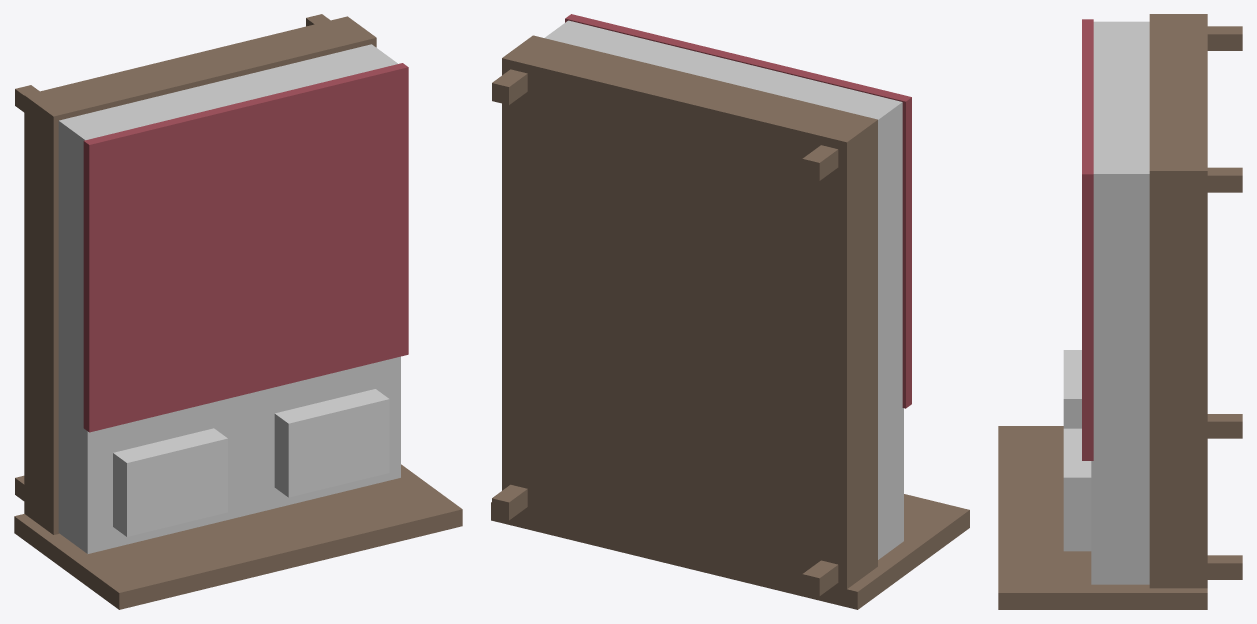
File: bed.glb
3 views of the same model, side by side, from view 1: azimuth 30°, elevation 25°; view 2: azimuth 150°, elevation 25°; view 3: azimuth 270°, elevation 25° (orthographic). The views are drawn at different scales.
Visible parts, largest first — view 1: Blanket, Mattress, BedFrame, Headboard, Pillow_2, Pillow_1; view 2: BedFrame, Mattress, Headboard, Blanket, Leg_3, Leg_1, Leg_2, Leg_4; view 3: BedFrame, Mattress, Headboard, Blanket, Pillow_2, Pillow_1, Leg_4, Leg_1, Leg_2, Leg_3.
Part boxes in pixels (x1=…): Blanket: x1=83, y1=63, x2=408, y2=432; Mattress: x1=58, y1=44, x2=400, y2=553; BedFrame: x1=24, y1=16, x2=376, y2=534; Headboard: x1=14, y1=464, x2=462, y2=609; Pillow_2: x1=274, y1=389, x2=389, y2=497; Pillow_1: x1=113, y1=428, x2=227, y2=536; BedFrame: x1=502, y1=35, x2=877, y2=589; Mattress: x1=544, y1=20, x2=903, y2=559; Headboard: x1=491, y1=494, x2=969, y2=609; Blanket: x1=565, y1=14, x2=911, y2=408; Leg_3: x1=802, y1=145, x2=838, y2=180; Leg_1: x1=802, y1=560, x2=838, y2=596; Leg_2: x1=492, y1=484, x2=527, y2=520; Leg_4: x1=492, y1=69, x2=527, y2=104; BedFrame: x1=1149, y1=14, x2=1207, y2=588; Mattress: x1=1091, y1=21, x2=1149, y2=584; Headboard: x1=998, y1=426, x2=1207, y2=609; Blanket: x1=1082, y1=19, x2=1093, y2=460; Pillow_2: x1=1063, y1=428, x2=1091, y2=551; Pillow_1: x1=1063, y1=350, x2=1081, y2=428; Leg_4: x1=1207, y1=167, x2=1242, y2=192; Leg_1: x1=1207, y1=414, x2=1242, y2=438; Leg_2: x1=1207, y1=555, x2=1242, y2=579; Leg_3: x1=1207, y1=26, x2=1242, y2=50.
Bounding box in the file's own units: 1.7 × 2.06 × 1.05.
